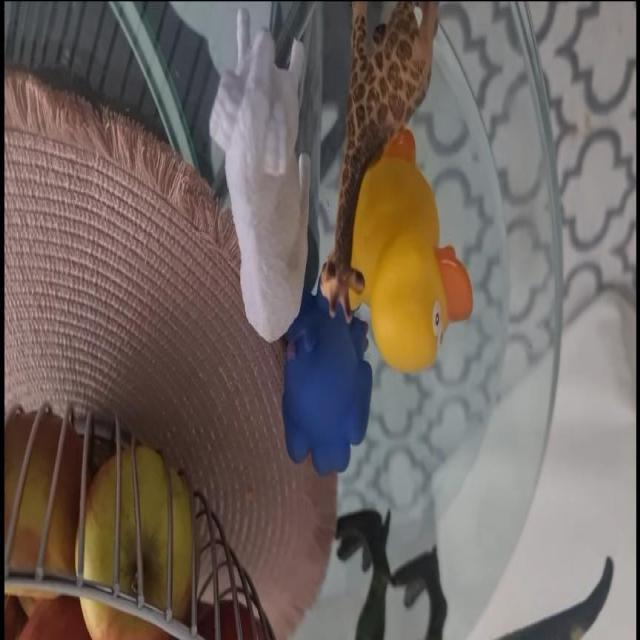hard-toy: (210, 32, 309, 341), (350, 129, 448, 372), (282, 291, 372, 473)
